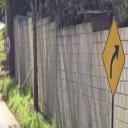speed_limit_40: (4, 33, 11, 54)
